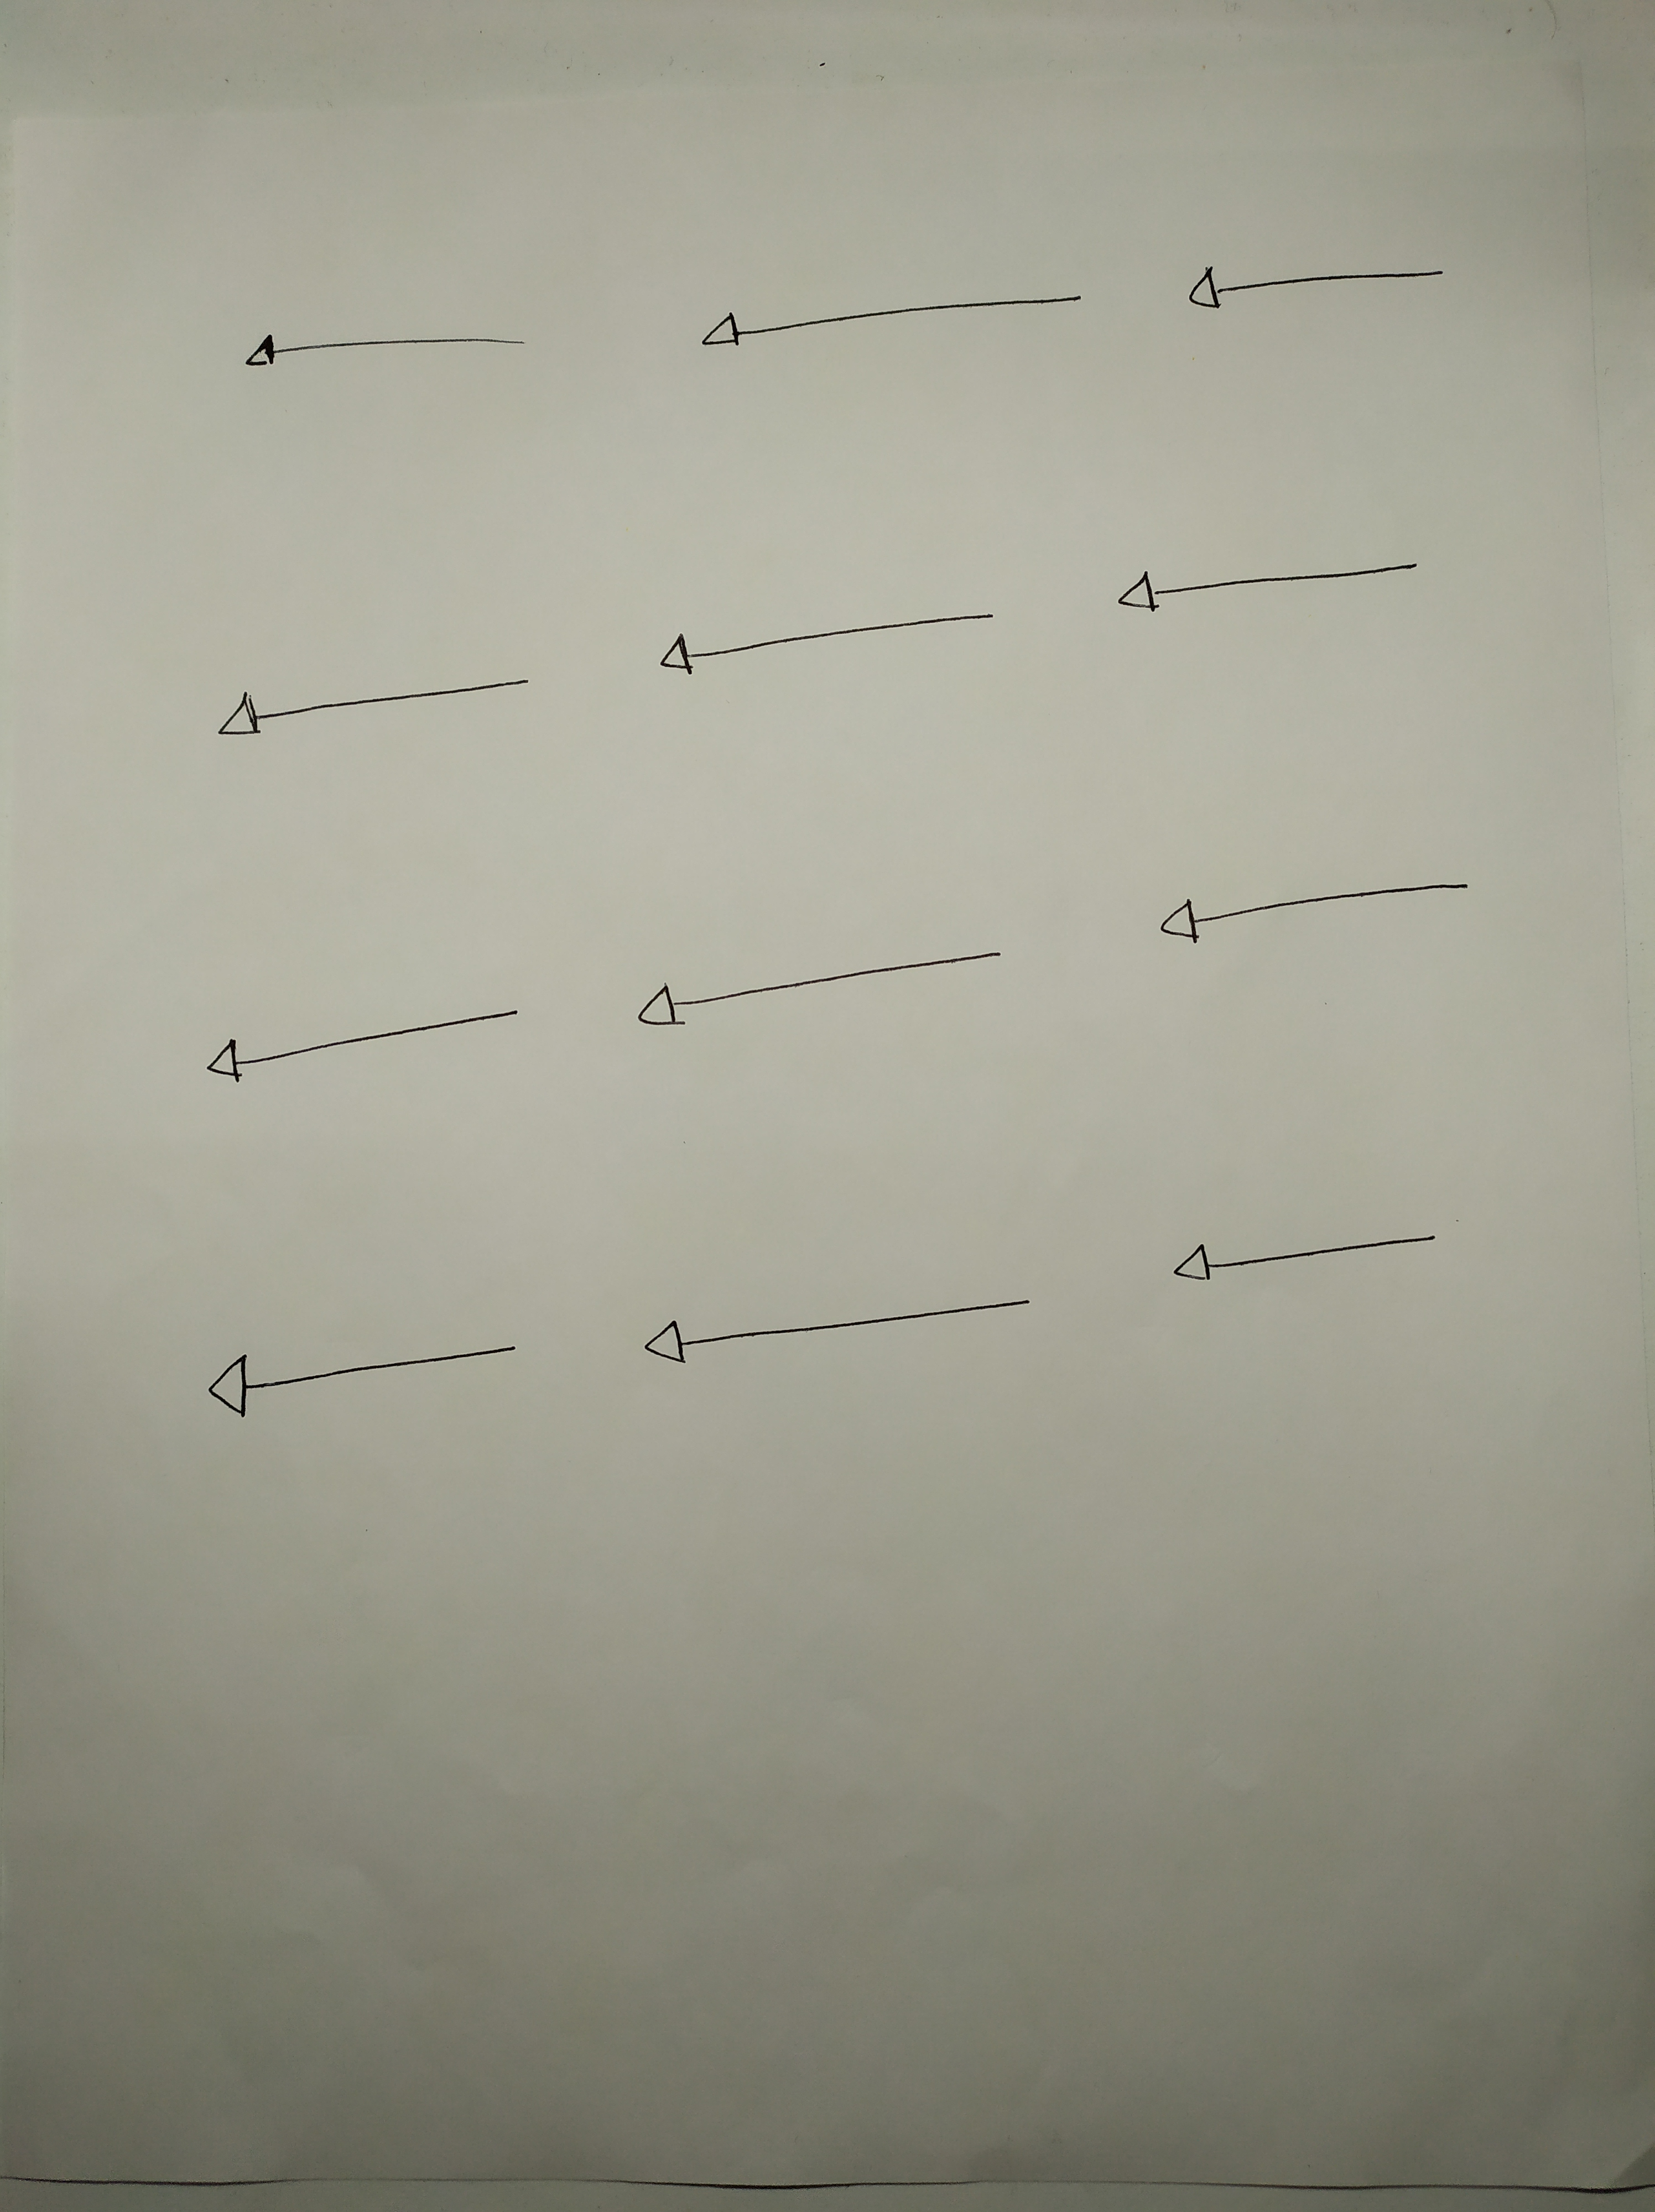arrow_line_left: (621, 926, 1029, 1063), (638, 1274, 1048, 1388), (640, 582, 1019, 704), (1100, 532, 1453, 662), (188, 980, 542, 1107), (676, 275, 1113, 374), (193, 1315, 539, 1437), (1149, 1185, 1460, 1315), (1149, 857, 1492, 971), (191, 662, 567, 747), (217, 309, 560, 393), (1163, 247, 1474, 325)
